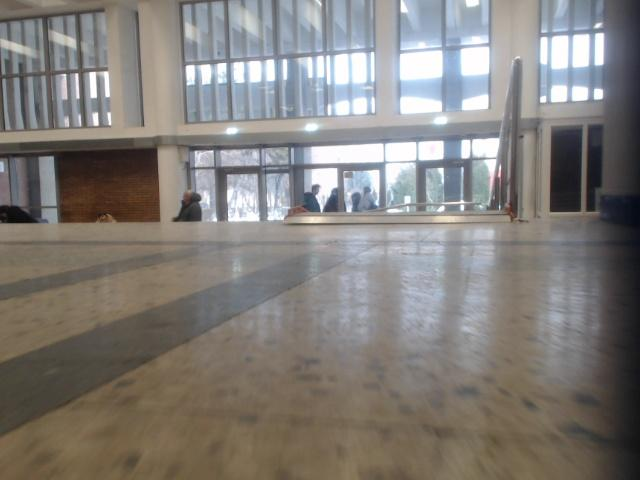rampDown: (285, 209, 508, 224)
ramps-railing: (489, 57, 520, 217)
